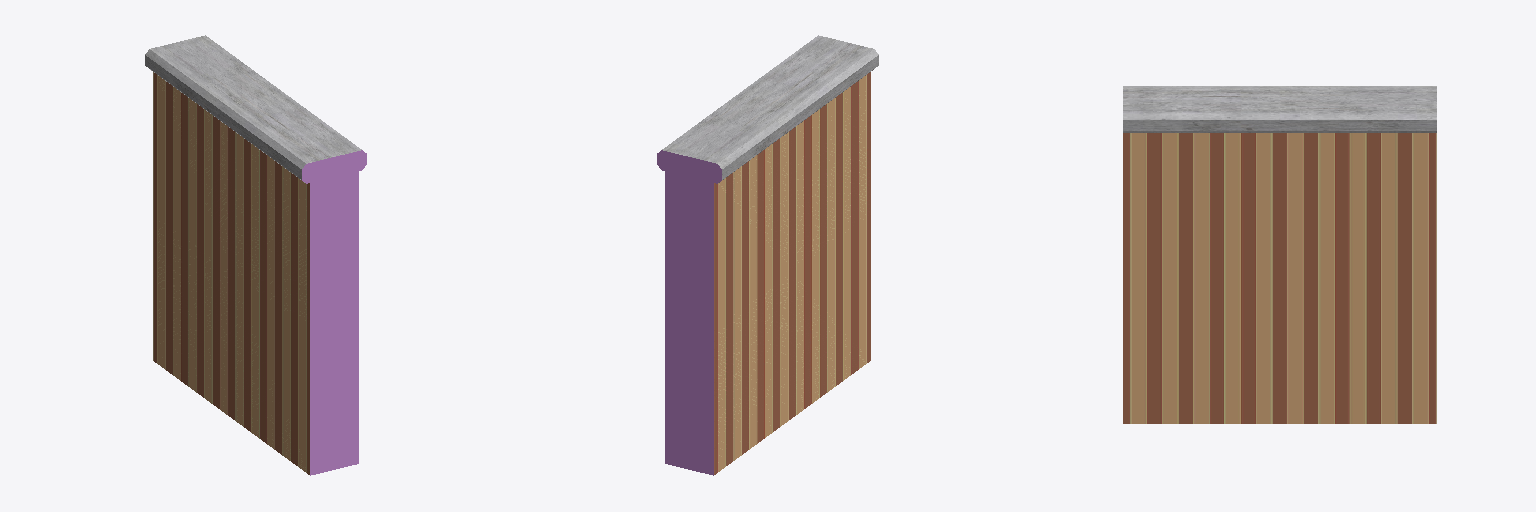
3 renders of one model, left to right at view 1: azimuth 30°, elevation 25°; view 2: azimuth 150°, elevation 25°; view 3: azimuth 270°, elevation 25°, orthographic.
Parts seen in each view (by area): view 1: muro_habitat_bajo; view 2: muro_habitat_bajo; view 3: muro_habitat_bajo.
Part boxes in pixels (x1,y1,x2,y2): muro_habitat_bajo: (145,35,366,475); muro_habitat_bajo: (657,35,878,475); muro_habitat_bajo: (1123,86,1436,423).
Size of the model in its own units: 2.59 by 11.88 by 10.8.
3 materials, 2 textured.